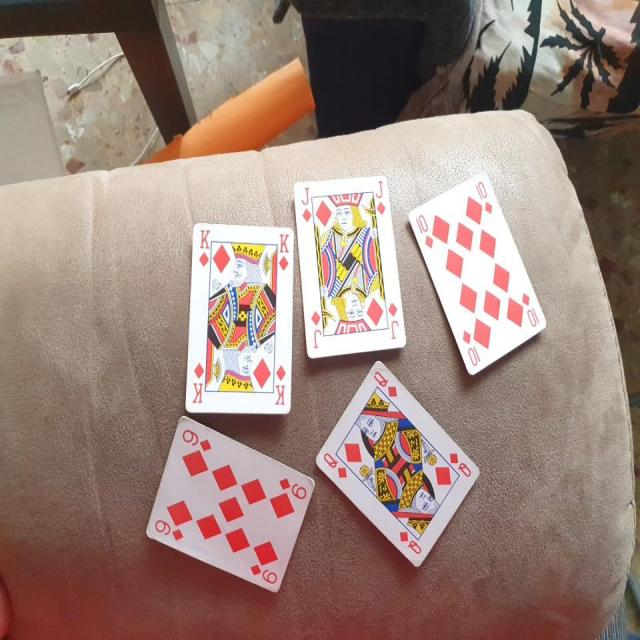10 Diamonds: (408, 170, 548, 378)
9 Diamonds: (143, 414, 314, 593)
J Diamonds: (292, 172, 408, 361)
K Diamonds: (183, 220, 296, 418)
Q Diamonds: (312, 358, 480, 569)
